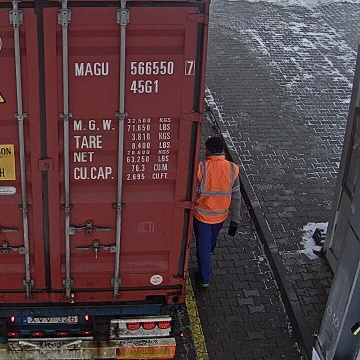serial_id: (74, 61, 193, 75)
